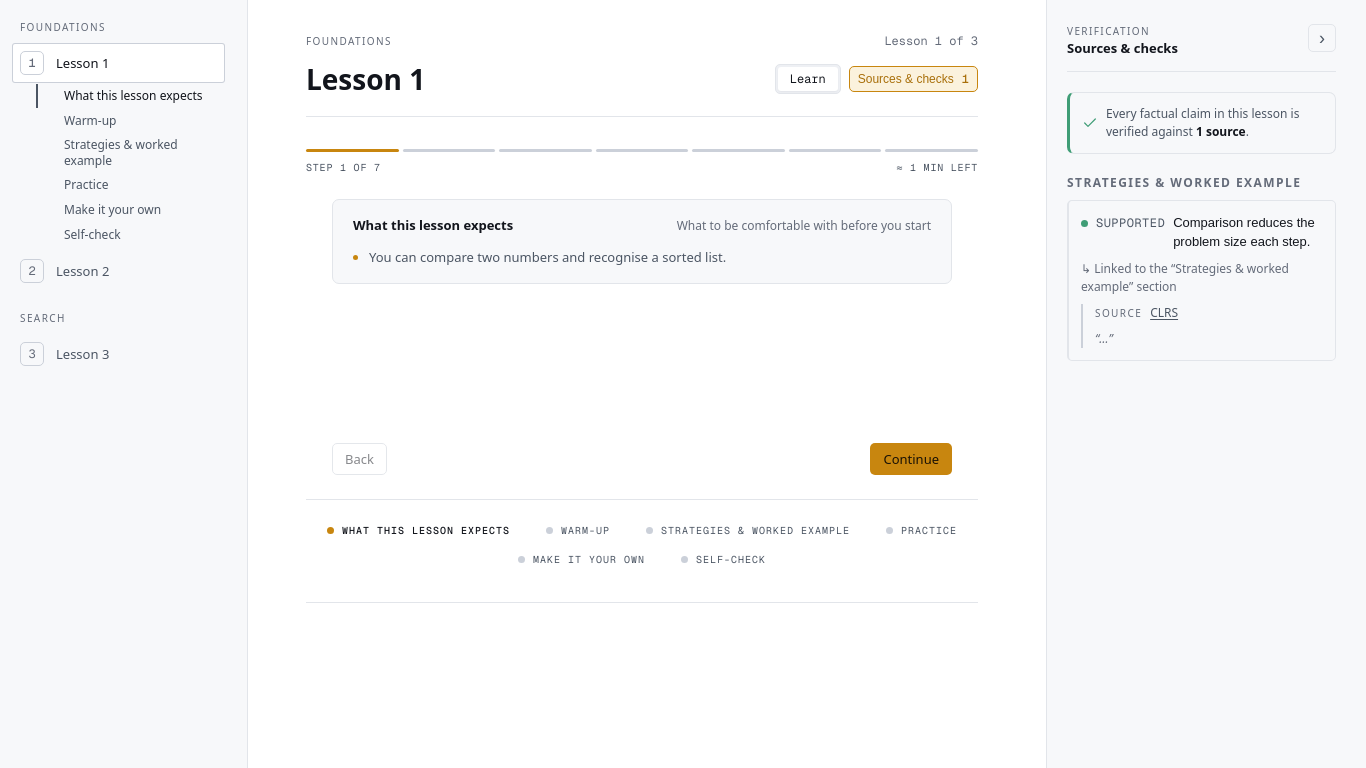
Test: CourseReader › jumps to a lesson when its outline entry is clicked
The image size is (1366, 768).
What coordinates should you click on to do the following:
click the button "3 Lesson 3"
I would click on:
 (118, 354)
Its box is [12,334,225,374].
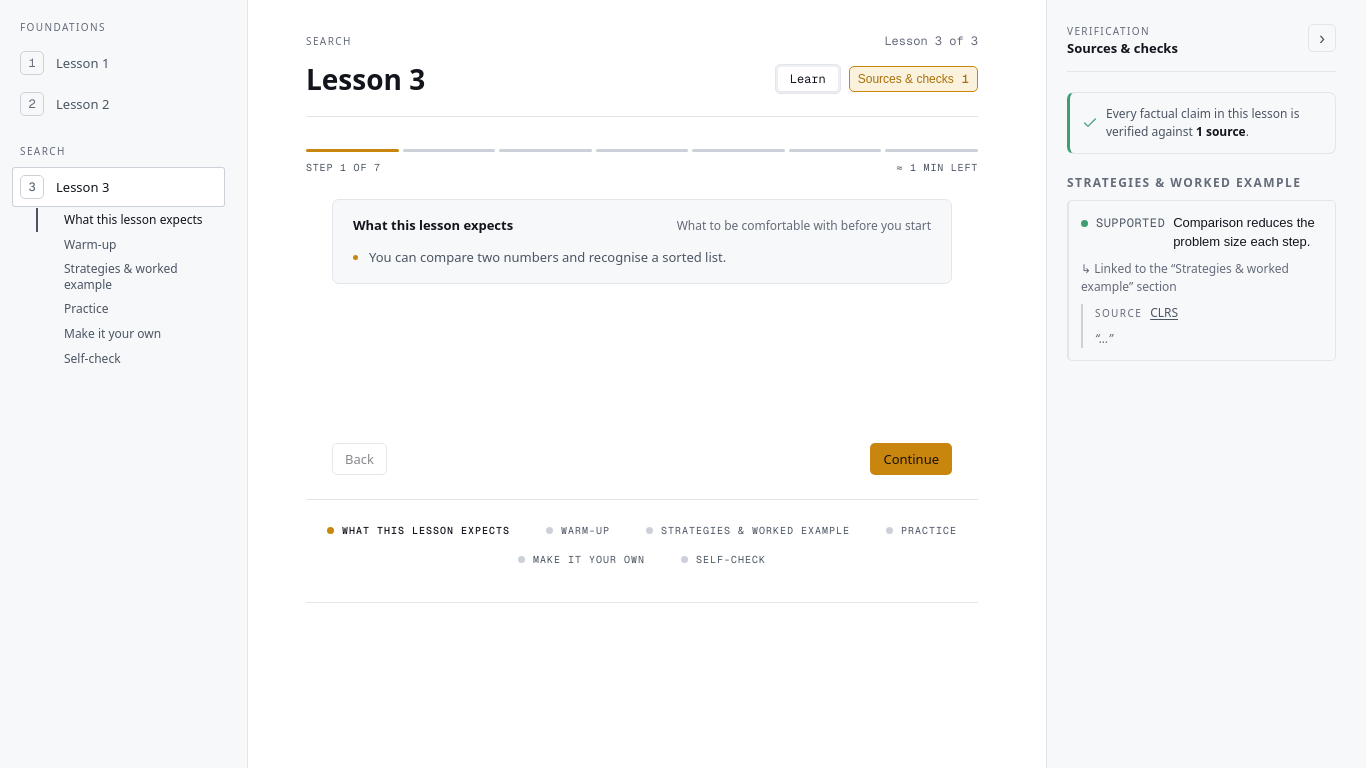
Now the text "Lesson 3 of 3" is shown, box [884,32,978,50]
